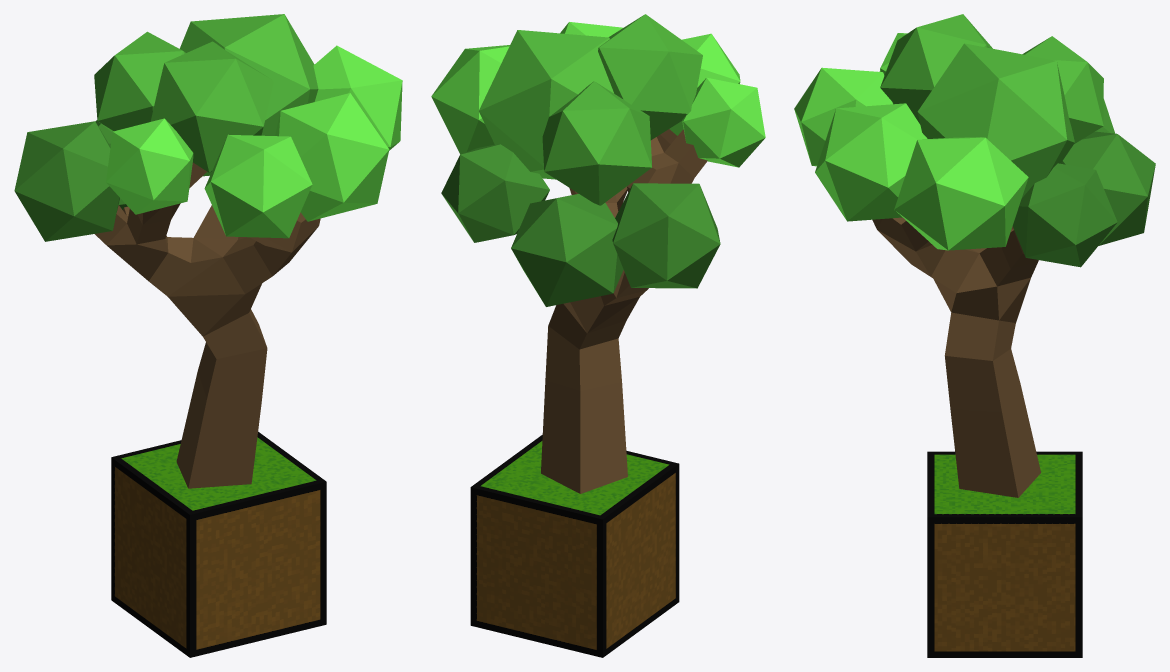
File: TreeMedium1.glb
3 views of the same model, side by side, from view 1: azimuth 30°, elevation 25°; view 2: azimuth 150°, elevation 25°; view 3: azimuth 270°, elevation 25° (orthographic). The views are drawn at different scales.
Parts seen in each view (by area): view 1: Grass_v2Baked, Tree medium, Icosphere.028, Icosphere.023, Icosphere.025, Icosphere.024, Icosphere.029, Icosphere.021, Icosphere.026, Icosphere.022; view 2: Grass_v2Baked, Tree medium, Icosphere.029, Icosphere.026, Icosphere.028, Icosphere.030, Icosphere.023, Icosphere.027, Icosphere.021, Icosphere.022, Icosphere.024, Icosphere.025; view 3: Grass_v2Baked, Tree medium, Icosphere.029, Icosphere.022, Icosphere.025, Icosphere.027, Icosphere.030, Icosphere.023, Icosphere.024, Icosphere.026.
Part boxes in pixels (<box>): Grass_v2Baked: <box>111,431,326,657</box>; Tree medium: <box>95,162,320,488</box>; Icosphere.028: <box>14,121,119,241</box>; Icosphere.023: <box>150,41,273,172</box>; Icosphere.025: <box>275,93,389,221</box>; Icosphere.024: <box>204,134,312,238</box>; Icosphere.029: <box>179,14,318,176</box>; Icosphere.021: <box>106,118,193,214</box>; Icosphere.026: <box>94,31,185,132</box>; Icosphere.022: <box>313,45,402,150</box>; Grass_v2Baked: <box>470,435,679,657</box>; Tree medium: <box>541,129,707,493</box>; Icosphere.029: <box>479,30,613,179</box>; Icosphere.026: <box>542,81,652,205</box>; Icosphere.028: <box>612,183,720,288</box>; Icosphere.030: <box>511,193,623,306</box>; Icosphere.023: <box>598,14,702,140</box>; Icosphere.027: <box>441,144,549,242</box>; Icosphere.021: <box>682,77,765,167</box>; Icosphere.022: <box>431,45,509,154</box>; Icosphere.024: <box>669,33,740,135</box>; Icosphere.025: <box>560,22,623,37</box>; Grass_v2Baked: <box>927,451,1082,657</box>; Tree medium: <box>872,217,1040,497</box>; Icosphere.029: <box>917,43,1074,197</box>; Icosphere.022: <box>894,137,1028,250</box>; Icosphere.025: <box>815,103,927,221</box>; Icosphere.027: <box>1012,163,1117,267</box>; Icosphere.030: <box>1061,131,1155,245</box>; Icosphere.023: <box>880,14,992,124</box>; Icosphere.024: <box>794,67,892,166</box>; Icosphere.026: <box>1022,36,1103,143</box>.
Bounding box in the file's own units: 2.37 × 4.07 × 2.28.
5 materials, 1 textured.
